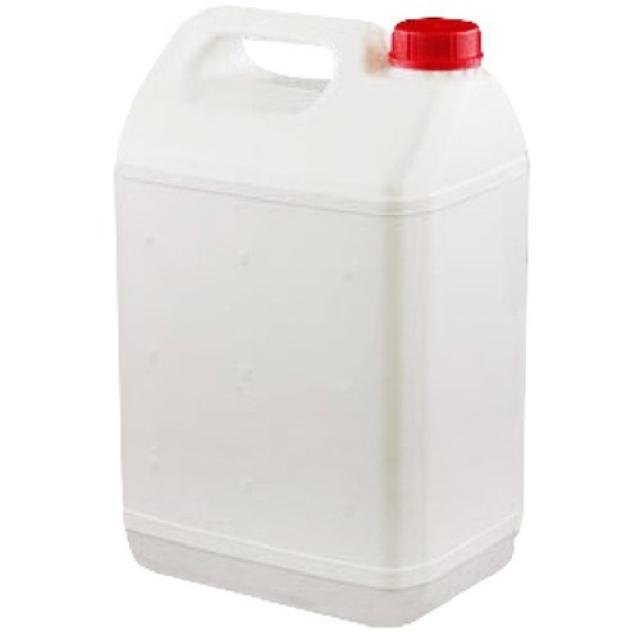Recipiente plastico: (118, 7, 525, 608)
